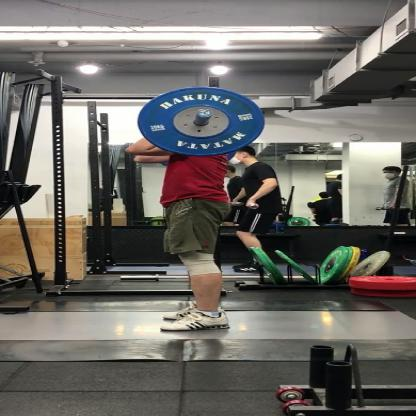Barbell: (128, 82, 273, 162)
